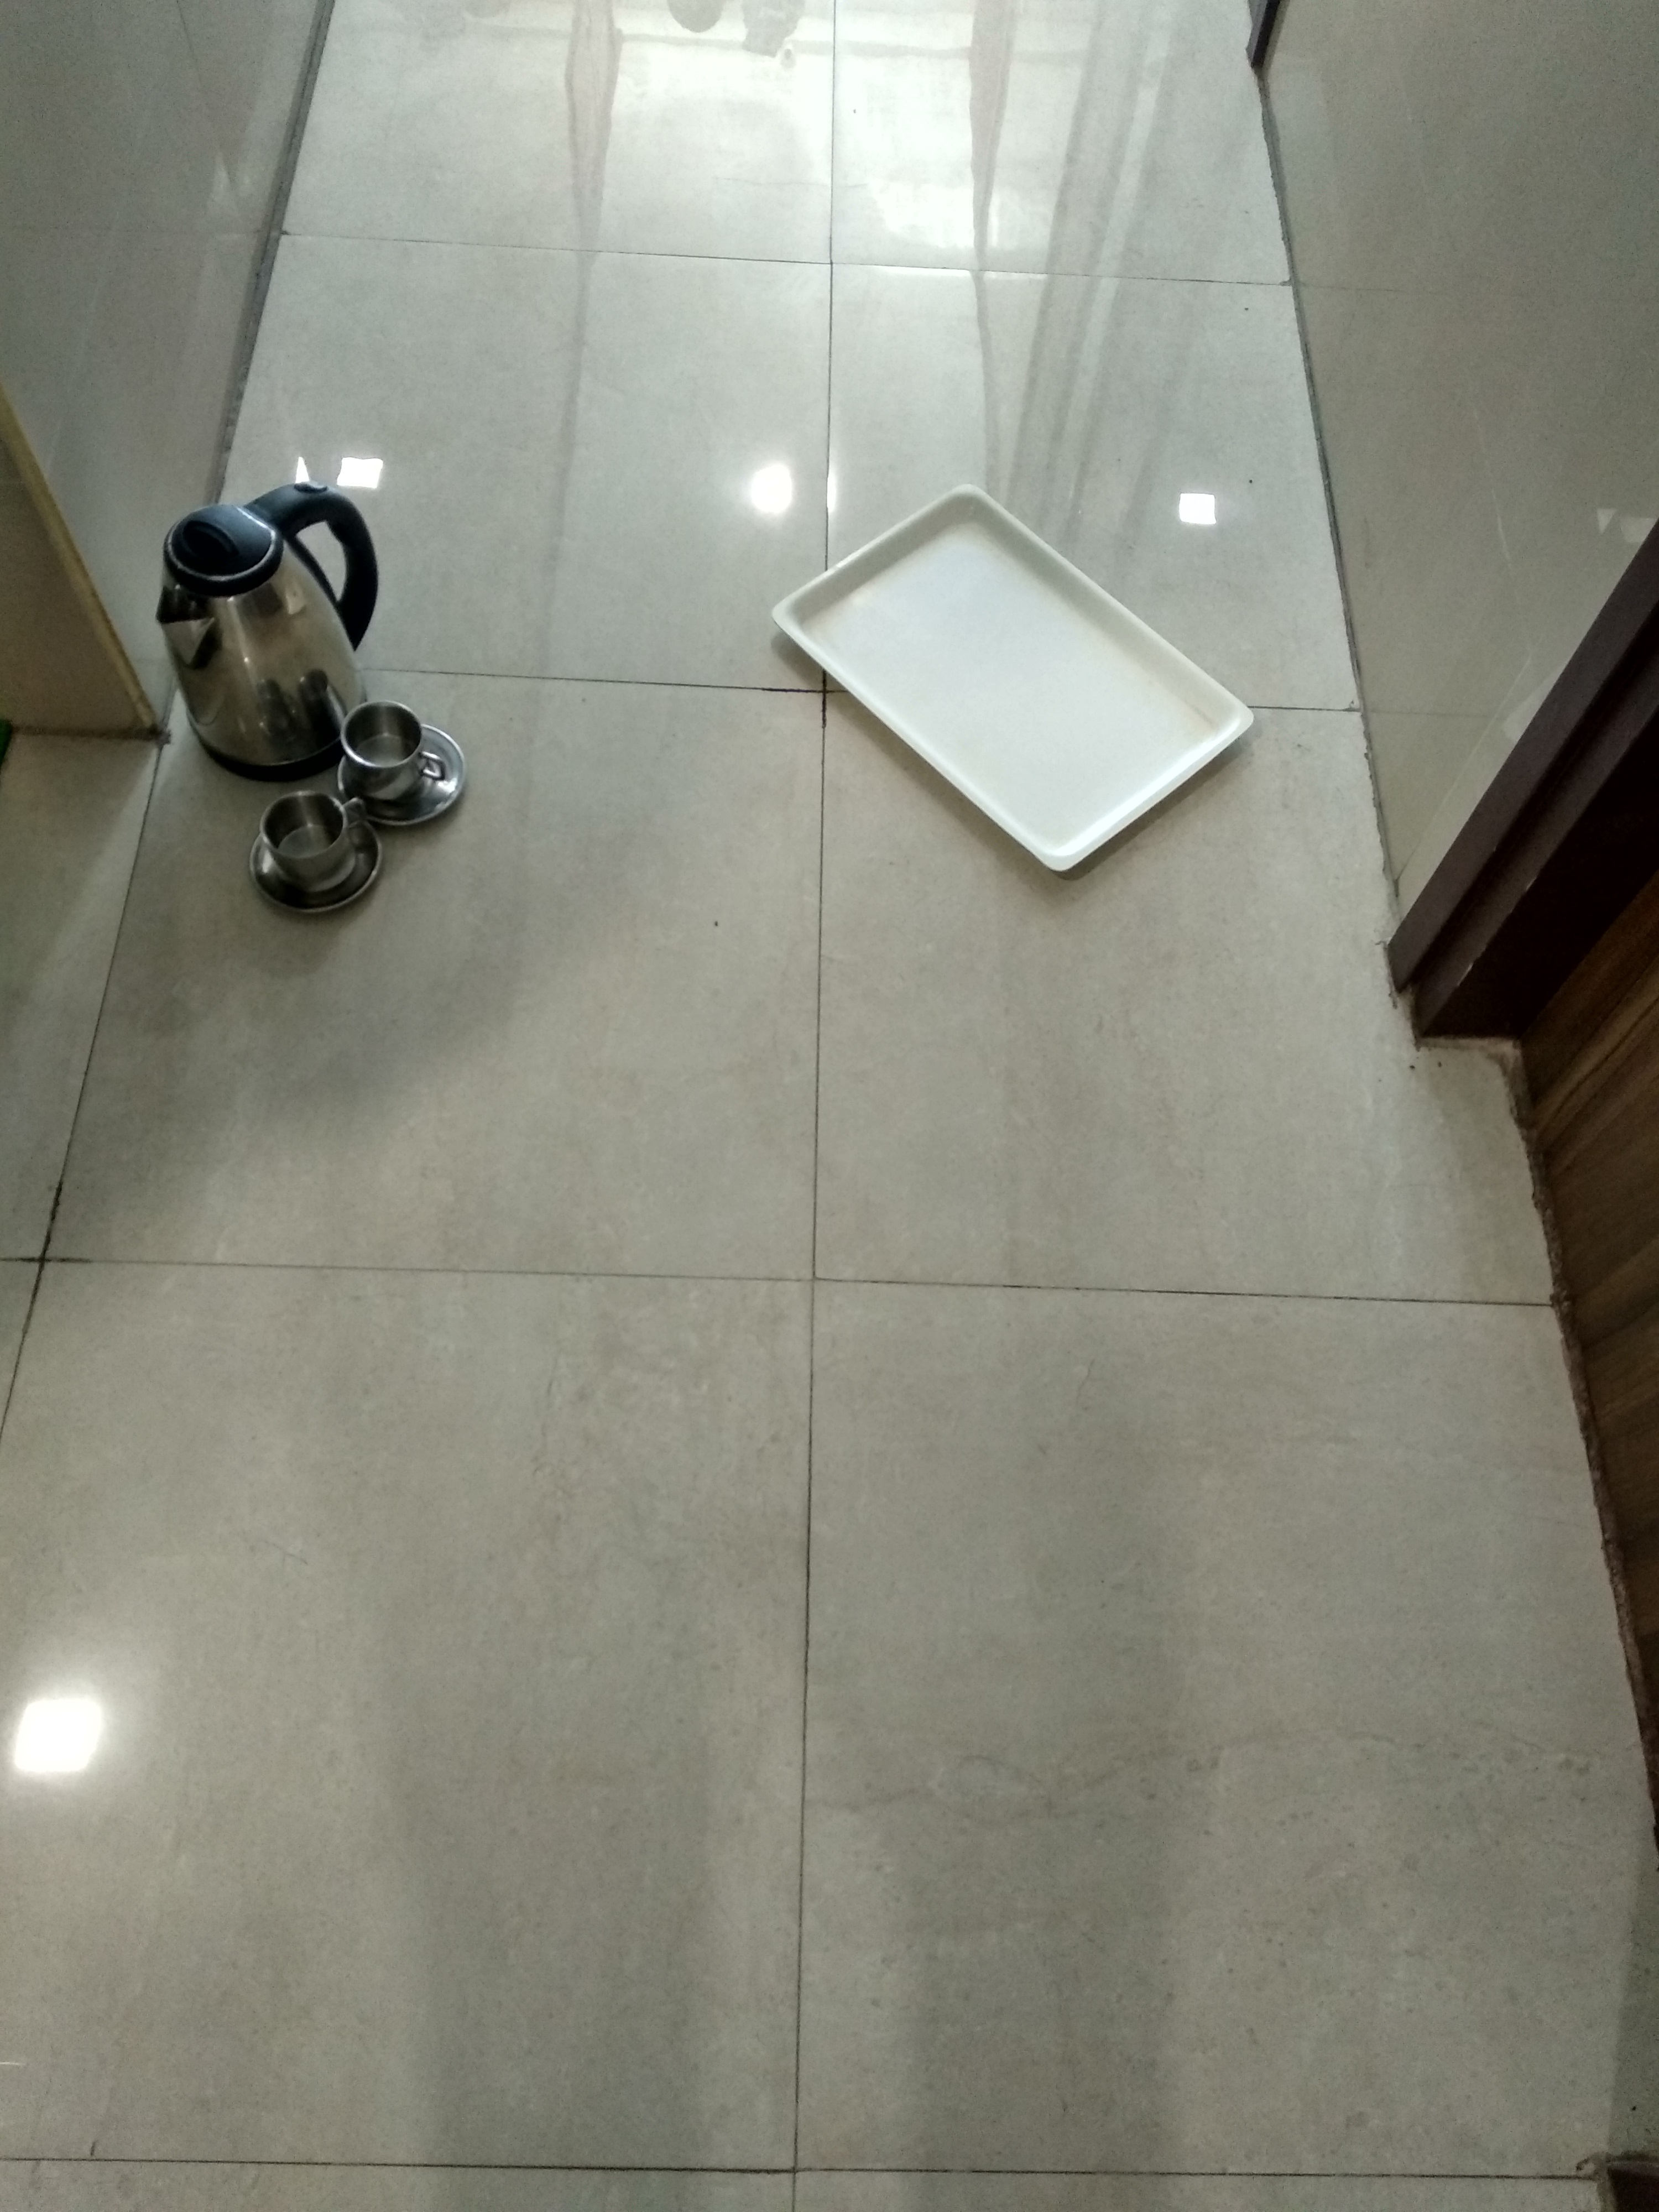CUP: (260, 780, 364, 885), (343, 702, 451, 787)
JUG: (150, 474, 362, 691)
